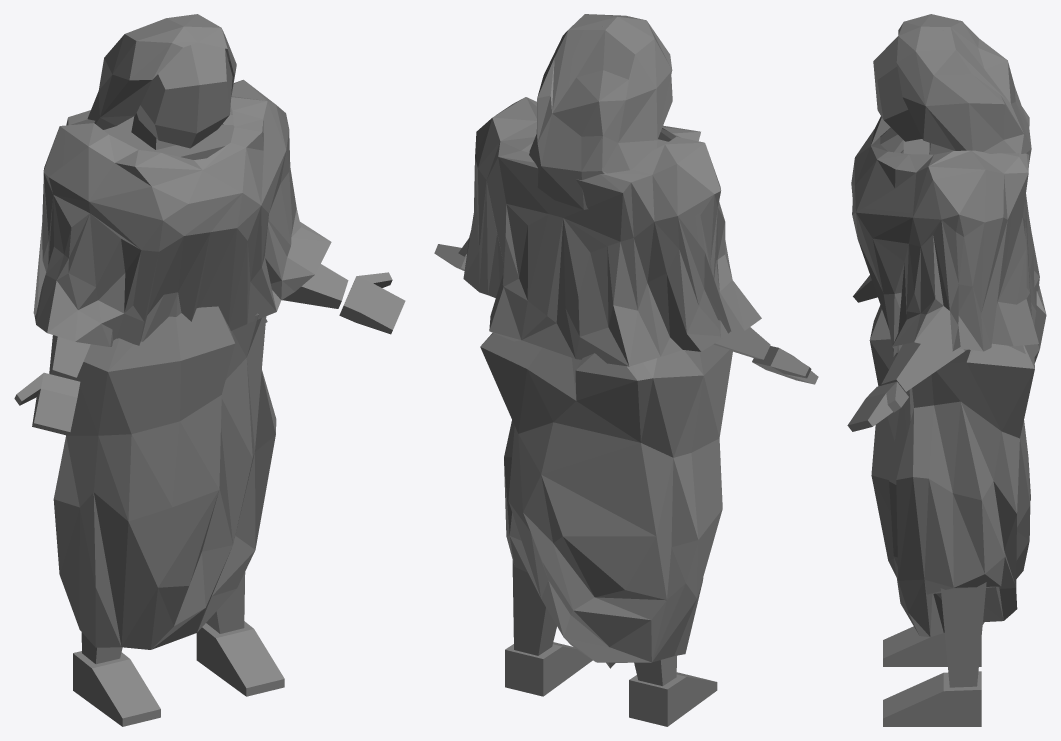
Rendered from Statue.fbx.
3 views of the same model, side by side, from view 1: azimuth 30°, elevation 25°; view 2: azimuth 150°, elevation 25°; view 3: azimuth 270°, elevation 25° (orthographic).
Parts seen in each view (by area): view 1: Statue6; view 2: Statue6; view 3: Statue6.
Boxes of the visible parts, <box> form: Statue6: <box>14,14,405,726</box>; Statue6: <box>434,14,818,726</box>; Statue6: <box>847,14,1046,726</box>.
Size of the model in its own units: 107 by 181 by 49.54.
1 material, 1 textured.
